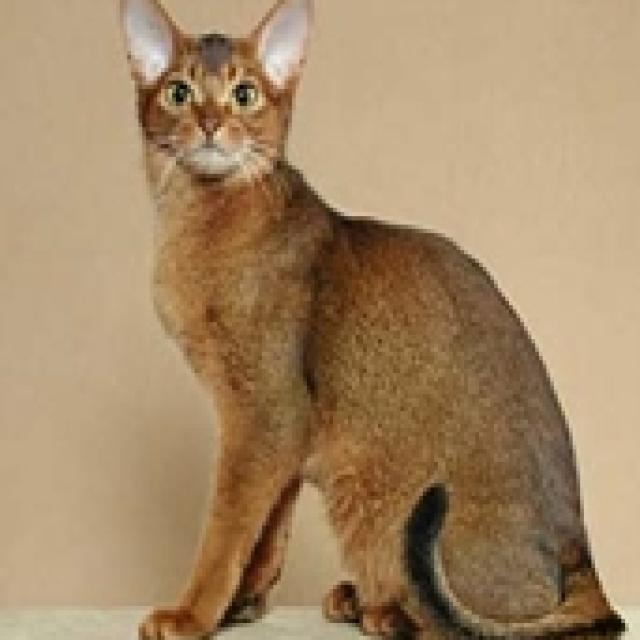Abyssinian: (116, 0, 629, 640)
